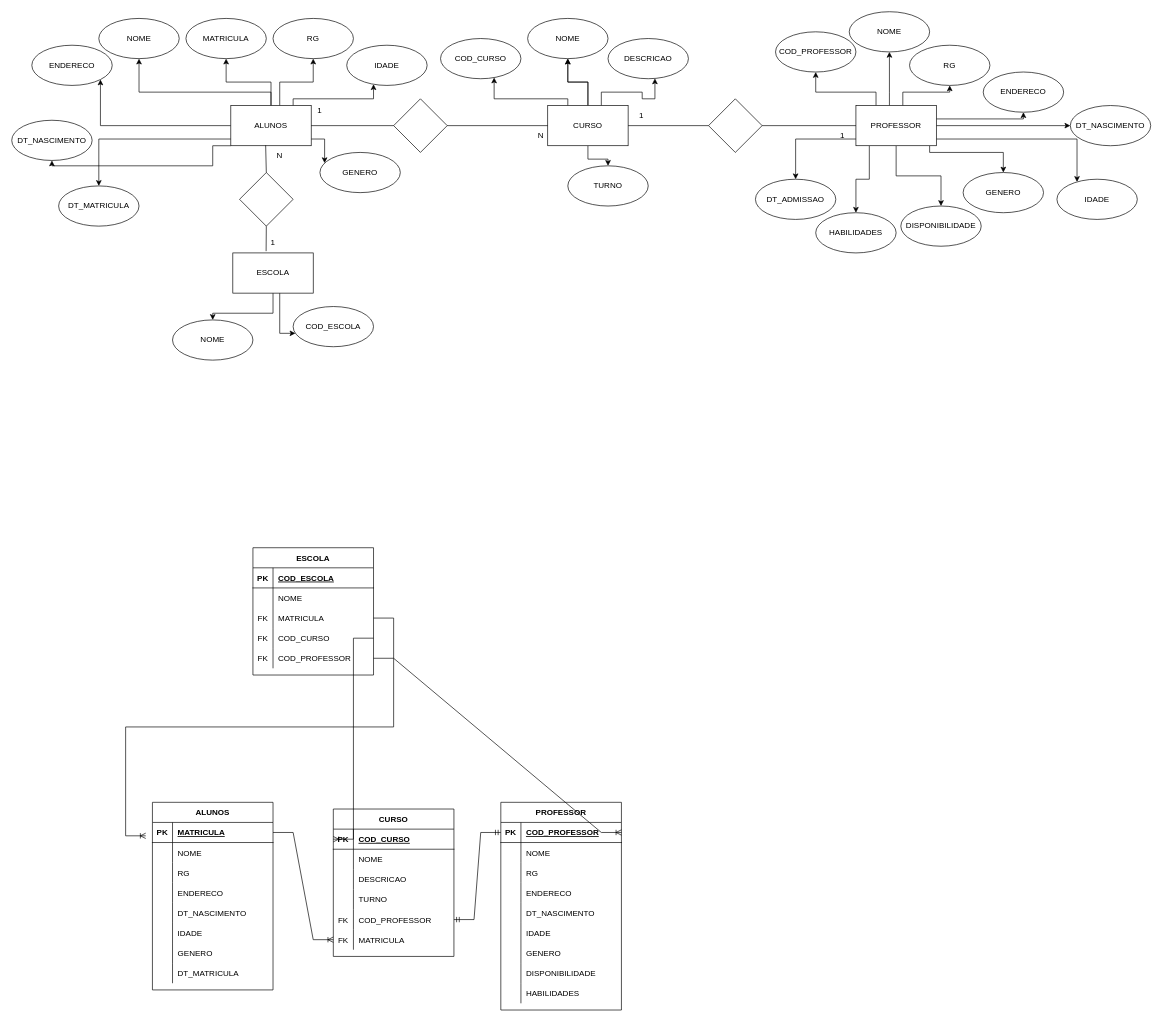
The diagram is 1162 pixels wide and 1022 high, and some of its shapes have lost their labels. The centre of each missing label's shape, as x and y in pixels:
INSCREVER: the point at 420,125
MINISTRAR: the point at 735,125
POSSUI: the point at 266,199
